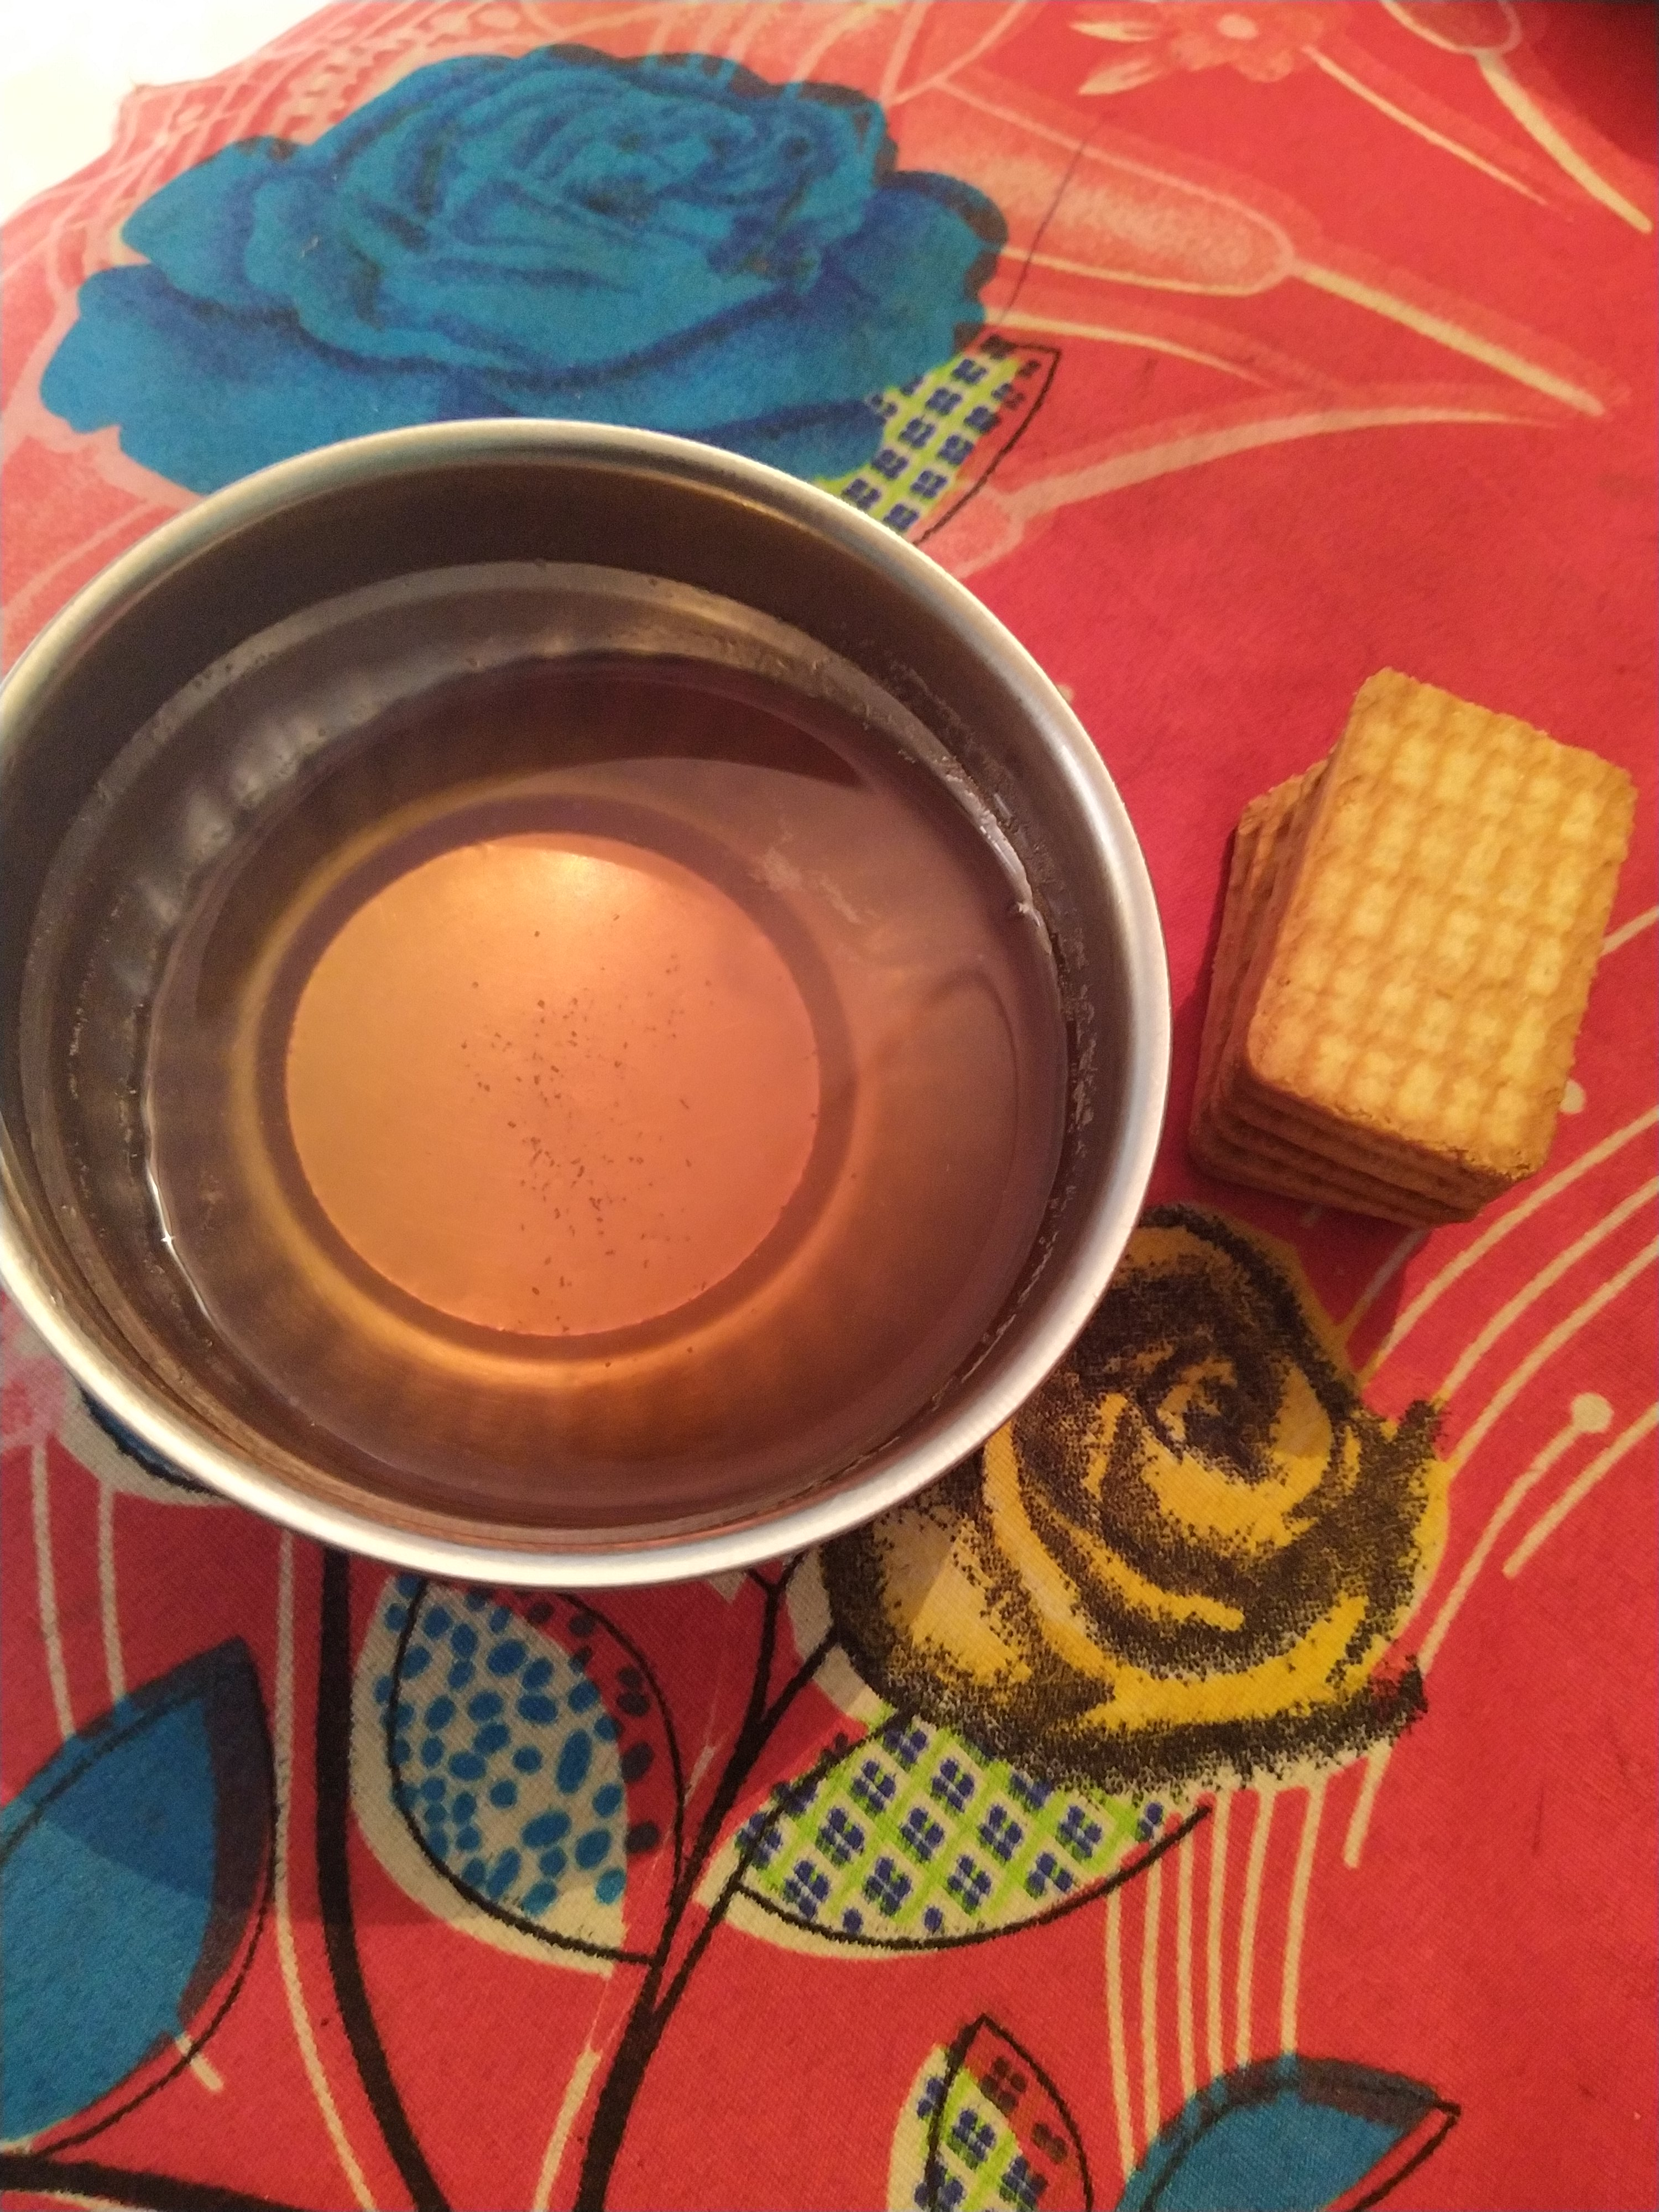food: (125, 631, 1079, 1555), (1176, 662, 1647, 1235)
